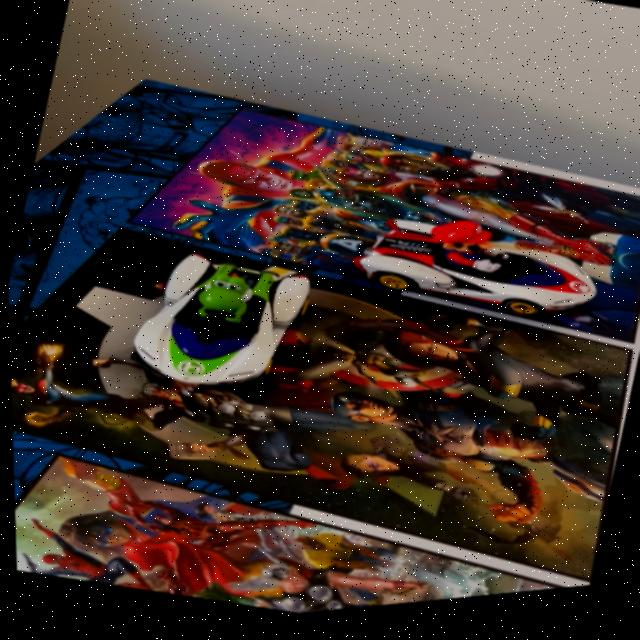mario: (332, 188, 618, 359)
yoshi: (107, 227, 327, 428)
